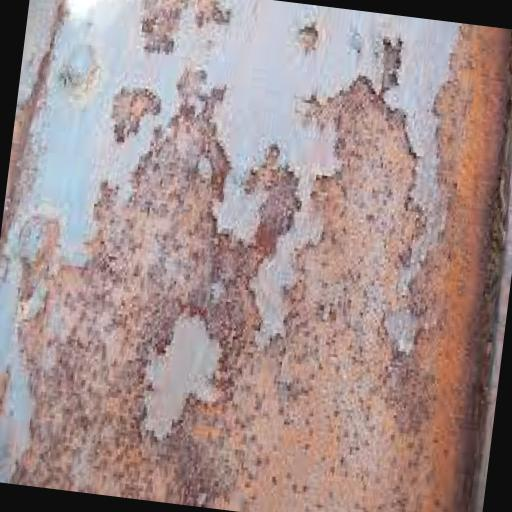segmentation: (56, 155, 251, 365)
